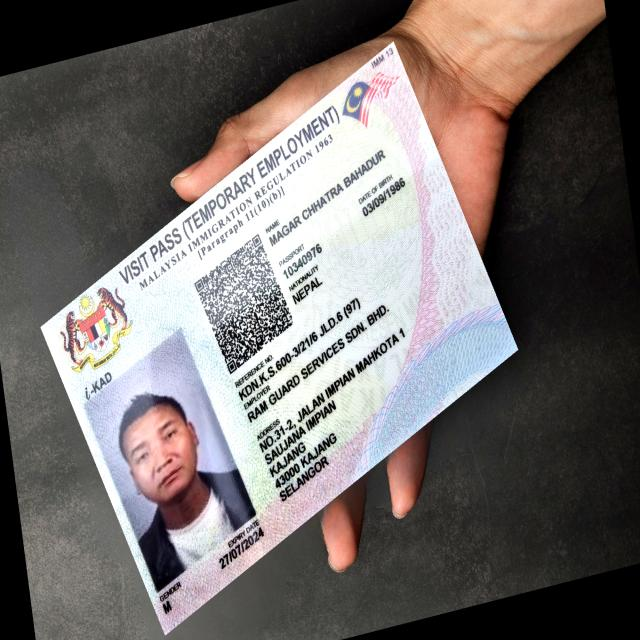ikad-temp: (39, 40, 518, 634)
